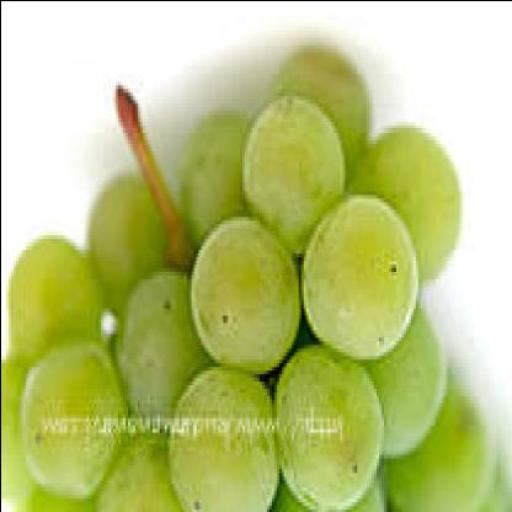biodegradable: (300, 198, 419, 362), (278, 347, 389, 511), (193, 219, 302, 377), (119, 274, 215, 442), (24, 343, 126, 501), (246, 98, 348, 252), (168, 373, 280, 511), (356, 135, 461, 282), (383, 384, 496, 511), (276, 51, 373, 190), (90, 175, 176, 322), (366, 311, 446, 457), (12, 242, 105, 354), (180, 117, 252, 252), (100, 438, 190, 511), (2, 354, 36, 511), (24, 480, 98, 512)
